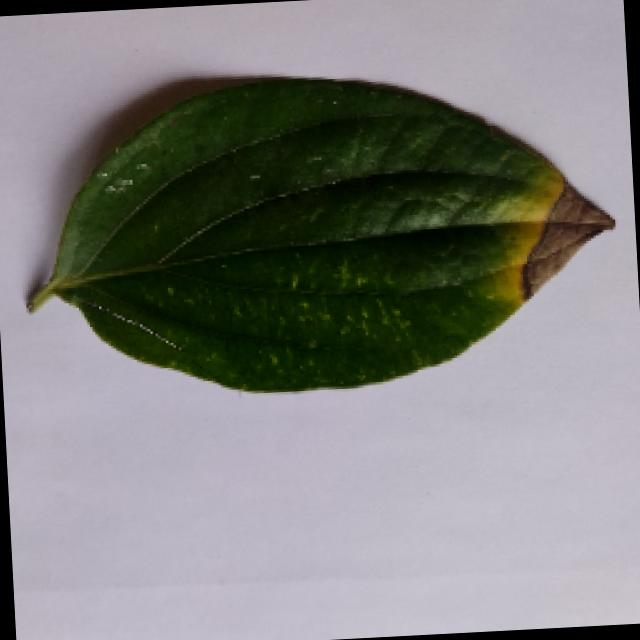footrot: (17, 46, 636, 412)
